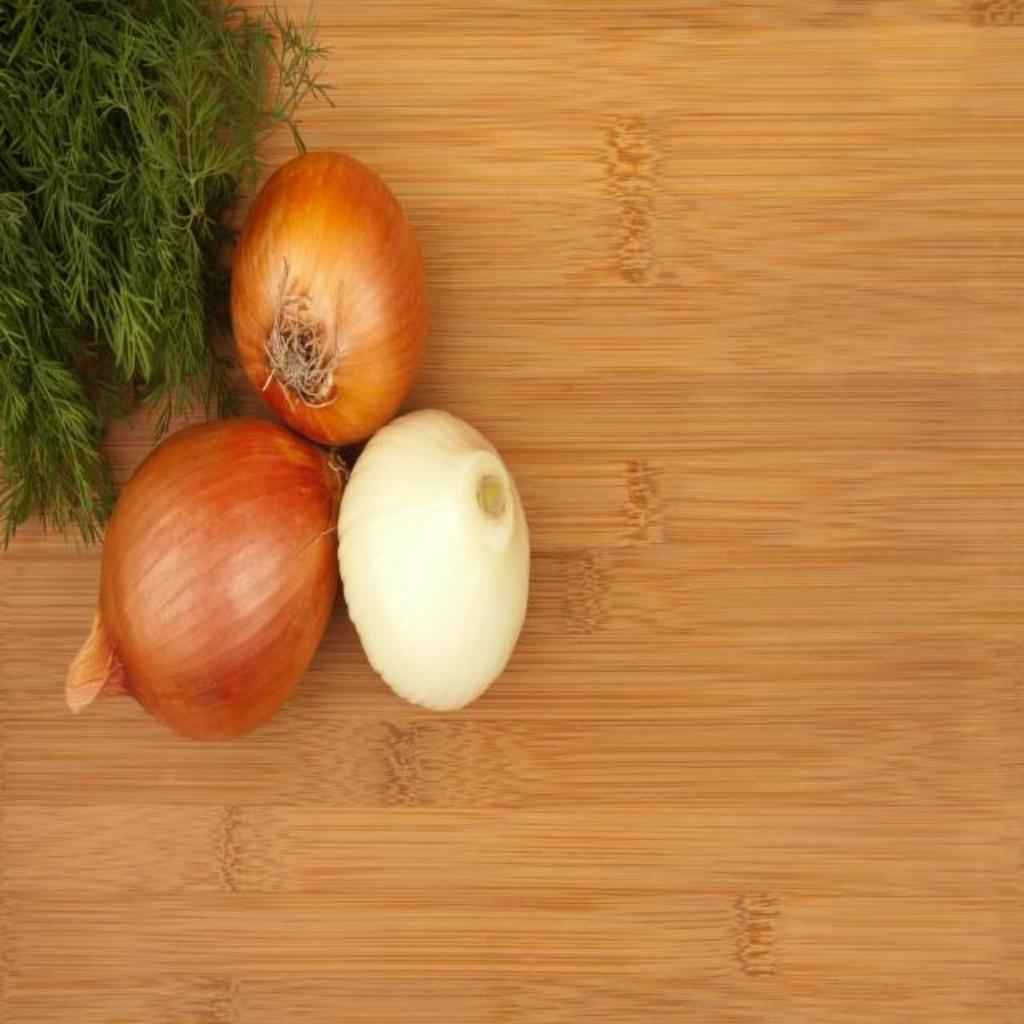Onion: (64, 419, 339, 742), (338, 410, 530, 712), (232, 152, 426, 446)
